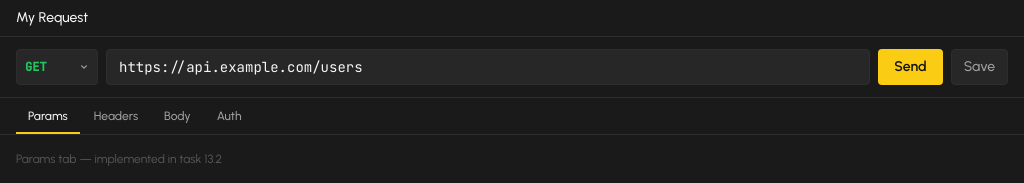
RequestBuilder › dirty / unsaved indicator (req 9.5) › displays the unsaved indicator element when there are unsaved changes
Replace the text in the field named "Request URL" with "https://changed.example.com": point(488, 67) top-left (106, 49), bottom-right (870, 85)
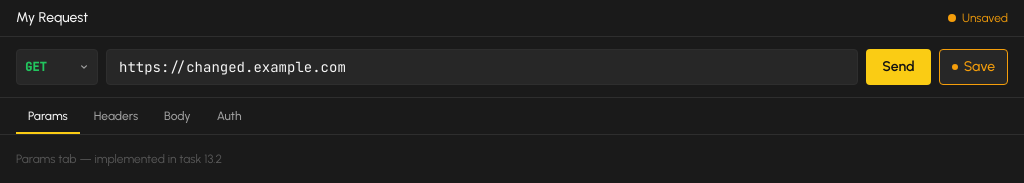
Expected: the element named "Unsaved changes" is shown, top-left (948, 10), bottom-right (1008, 26)
